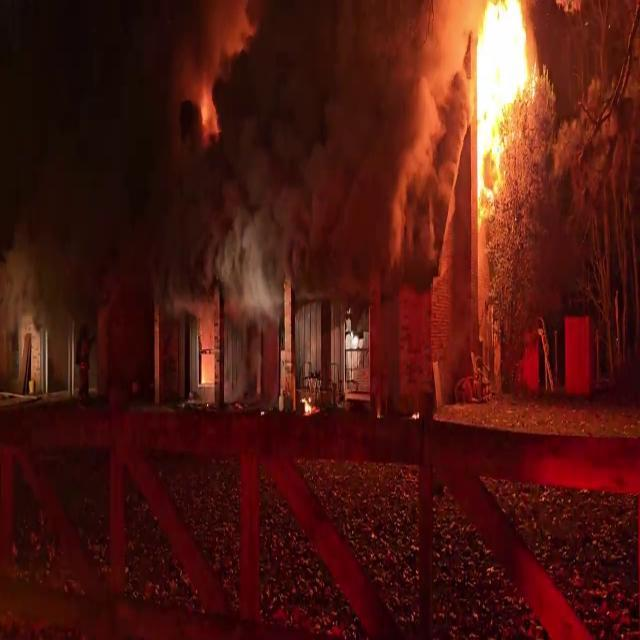Fire: (465, 1, 537, 212)
Smoke: (204, 0, 419, 301)
